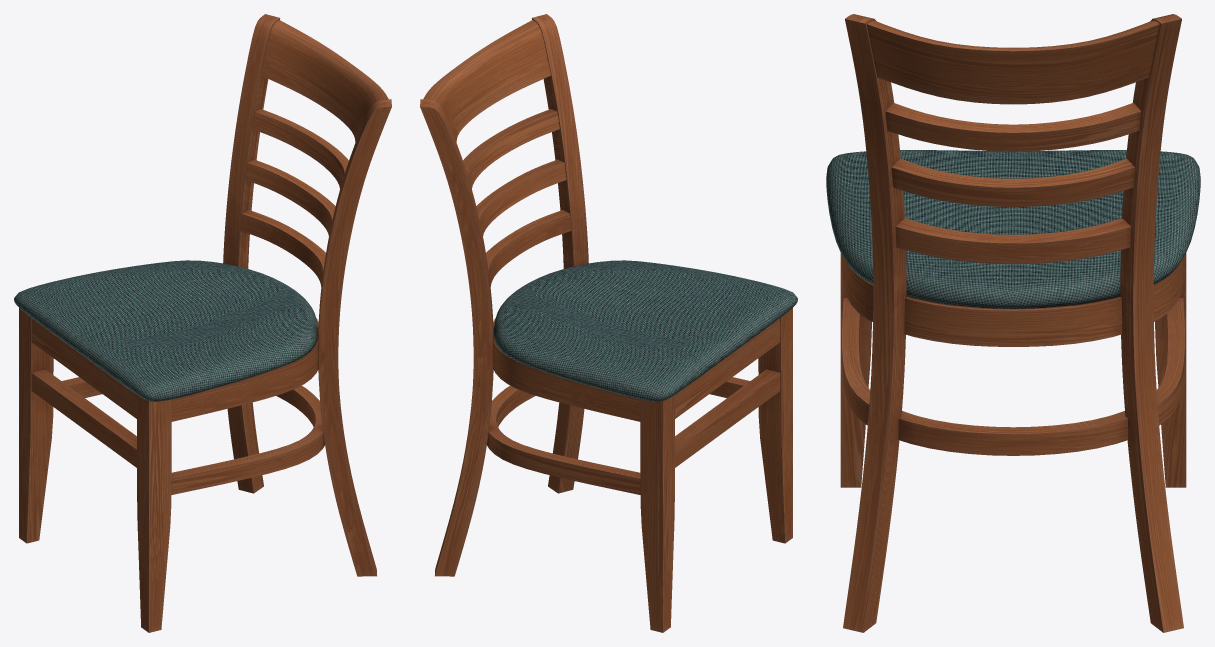
The model's file is backrooms_ladderback_chair.glb.
3 renders of one model, left to right at view 1: azimuth 30°, elevation 25°; view 2: azimuth 150°, elevation 25°; view 3: azimuth 270°, elevation 25°, orthographic. The views are drawn at different scales.
Parts seen in each view (by area): view 1: Chair; view 2: Chair; view 3: Chair.
Part boxes in pixels (left/top/right/bottom): Chair: left=14, top=14, right=391, bottom=632; Chair: left=420, top=14, right=797, bottom=632; Chair: left=826, top=14, right=1200, bottom=632.
Size of the model in its own units: 0.561 by 0.9021 by 0.4929.
1 material, 1 textured.
